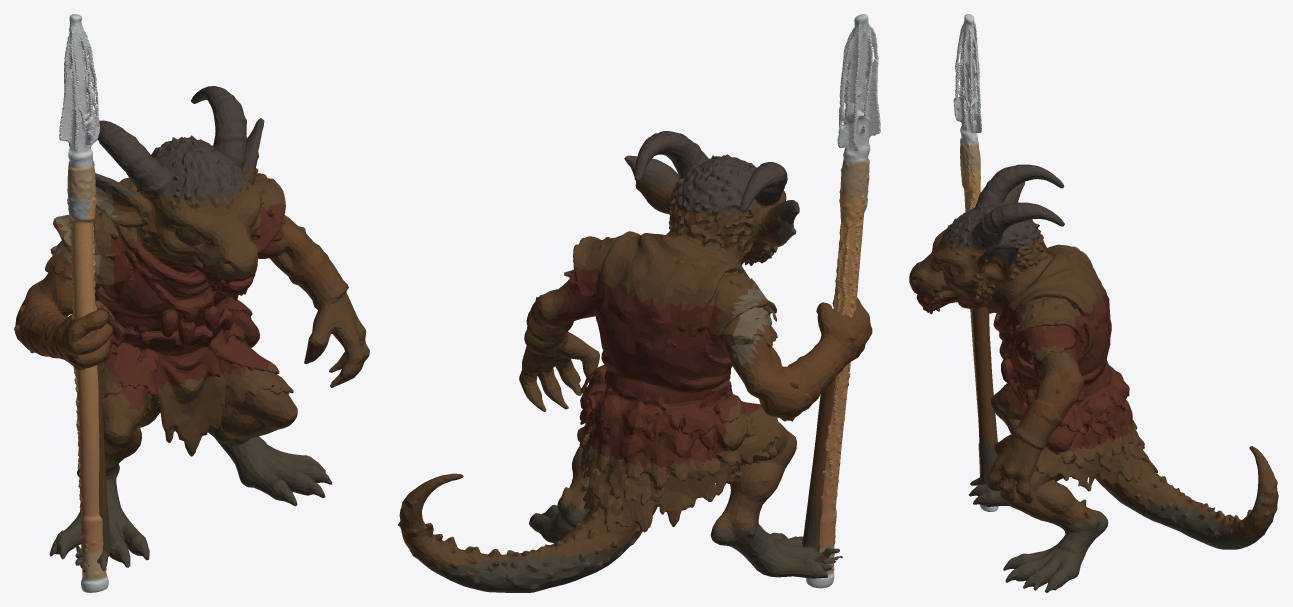
Rendered from kobold.glb.
3 renders of one model, left to right at view 1: azimuth 30°, elevation 25°; view 2: azimuth 150°, elevation 25°; view 3: azimuth 270°, elevation 25°, orthographic. The views are drawn at different scales.
Parts seen in each view (by area): view 1: tmpghpypemc.ply, tmp3jubb50w.ply; view 2: tmpghpypemc.ply, tmp3jubb50w.ply; view 3: tmpghpypemc.ply, tmp3jubb50w.ply.
Part boxes in pixels (x1,y1,x2,y2): tmpghpypemc.ply: [14, 86, 369, 571]; tmp3jubb50w.ply: [59, 14, 108, 592]; tmpghpypemc.ply: [398, 131, 872, 592]; tmp3jubb50w.ply: [806, 14, 880, 588]; tmpghpypemc.ply: [909, 164, 1278, 592]; tmp3jubb50w.ply: [953, 14, 998, 511].
Bounding box in the file's own units: 1.65 × 2.75 × 1.91.
